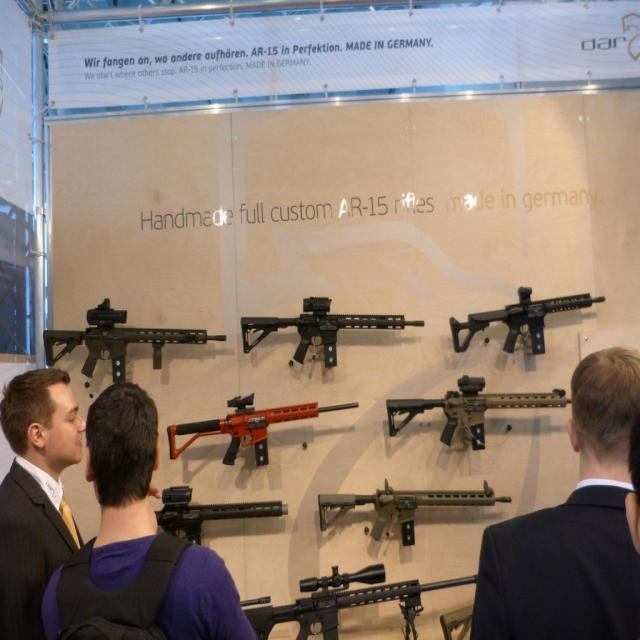firearm: (241, 563, 479, 640), (43, 296, 227, 379), (168, 392, 359, 469), (387, 376, 571, 450), (240, 296, 426, 368), (318, 480, 513, 545), (449, 285, 607, 357), (156, 486, 290, 543)
